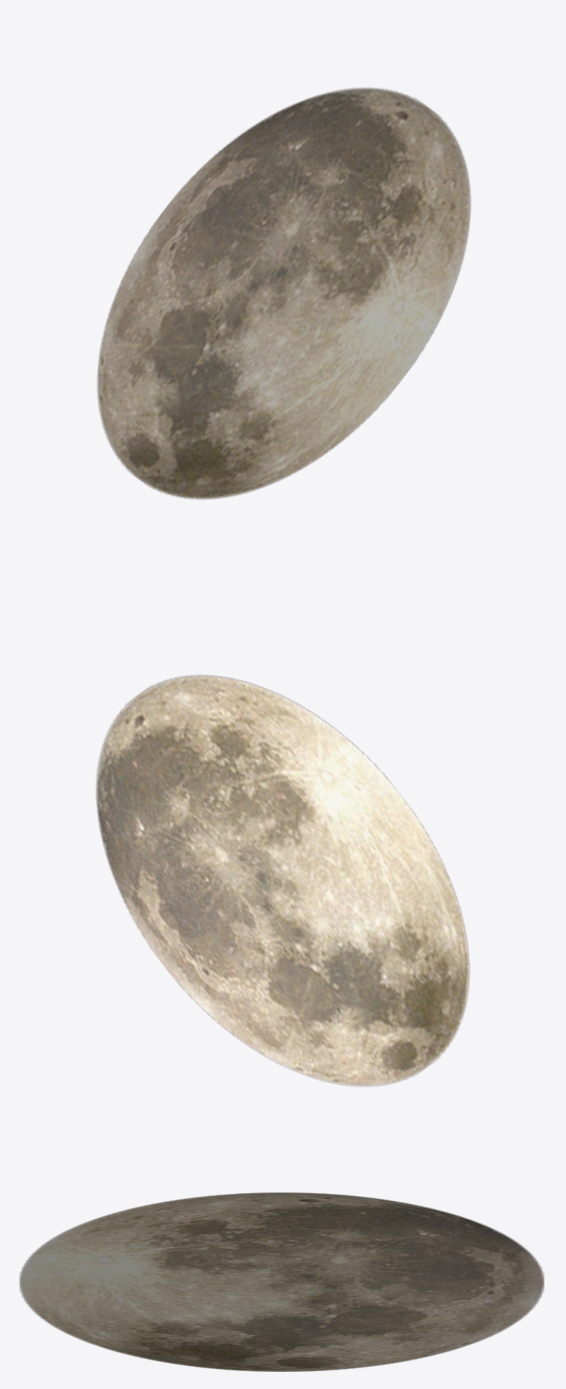
File: Civilian - Civilian Scenery - Moon - CINE_Moon.glb
3 renders of one model, top to bottom at view 1: azimuth 30°, elevation 25°; view 2: azimuth 150°, elevation 25°; view 3: azimuth 270°, elevation 25°, orthographic. The views are drawn at different scales.
Parts seen in each view (by area): view 1: CINE_MOON; view 2: CINE_MOON; view 3: CINE_MOON.
Part boxes in pixels (left/top/right/bottom): CINE_MOON: left=97, top=87, right=470, bottom=499; CINE_MOON: left=96, top=675, right=469, bottom=1086; CINE_MOON: left=19, top=1192, right=544, bottom=1371.
Bounding box in the file's own units: 28.28 × 28.28 × 40.
Materials: 1 (1 with a texture image).
